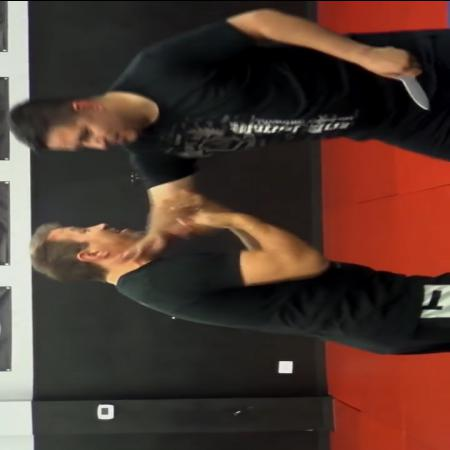long weapon: (378, 43, 434, 111)
